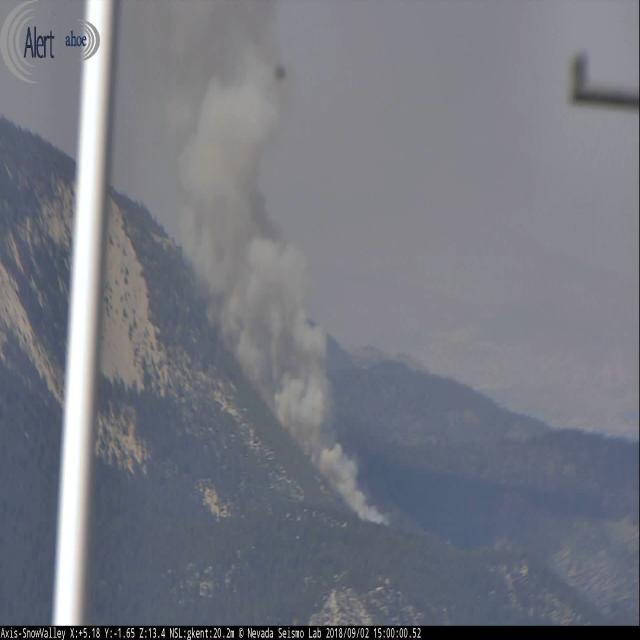smoke: (115, 0, 393, 529)
